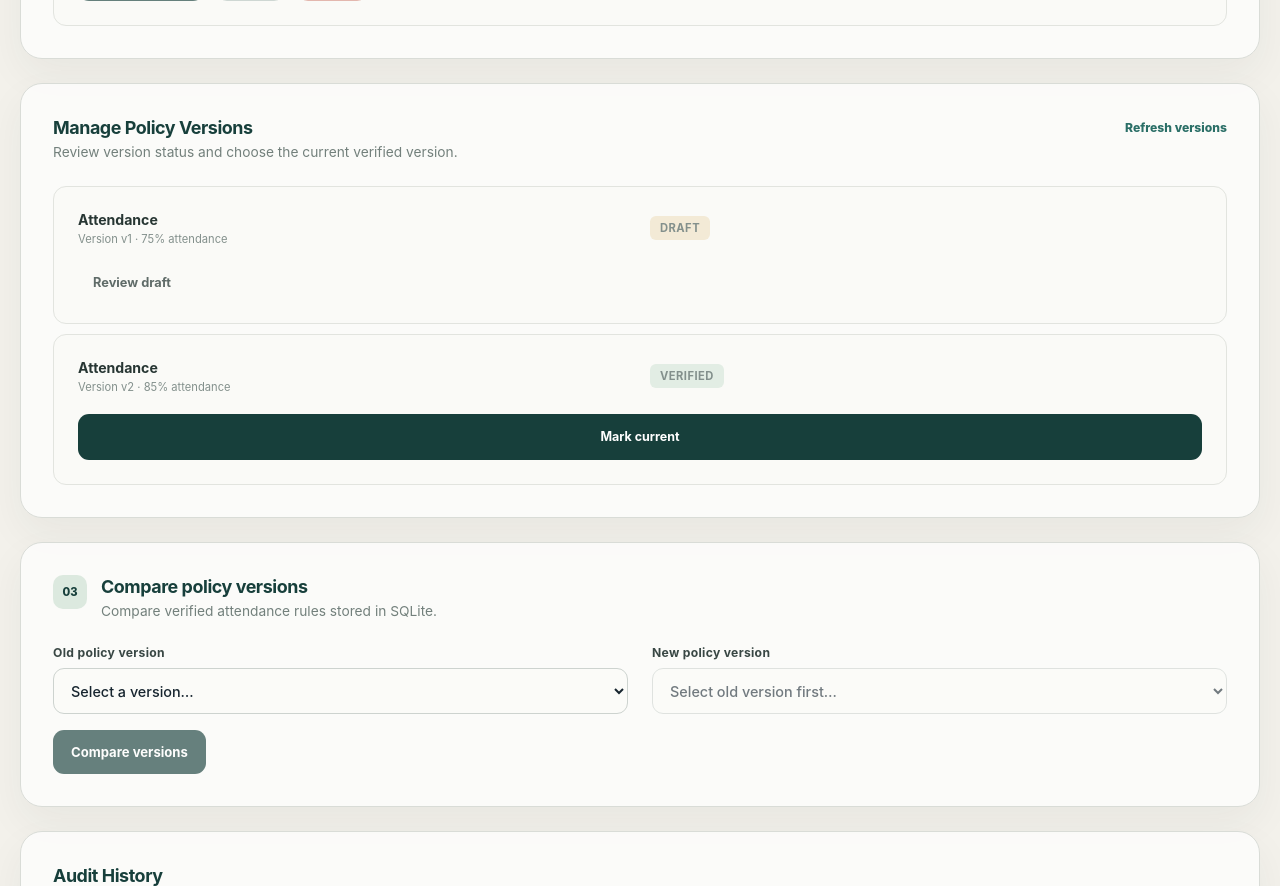
manages versions through the existing authenticated mark-current endpoint
(page scrolled)
Click the button "Mark current": coordinates (640, 437) [78,414,1202,460]
(page scrolled)
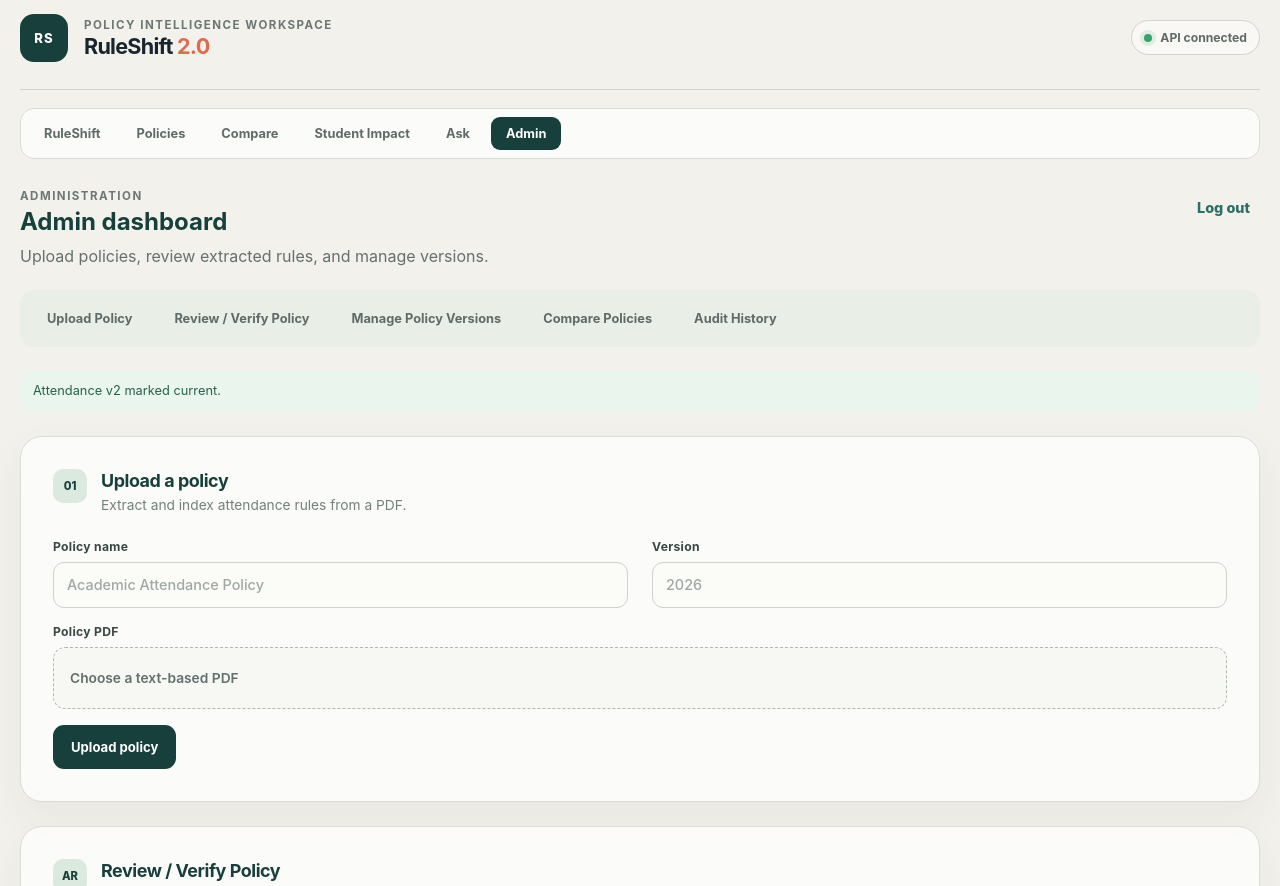
Expected: the text "Attendance v2 marked current." is shown, [20,371,1260,412]
